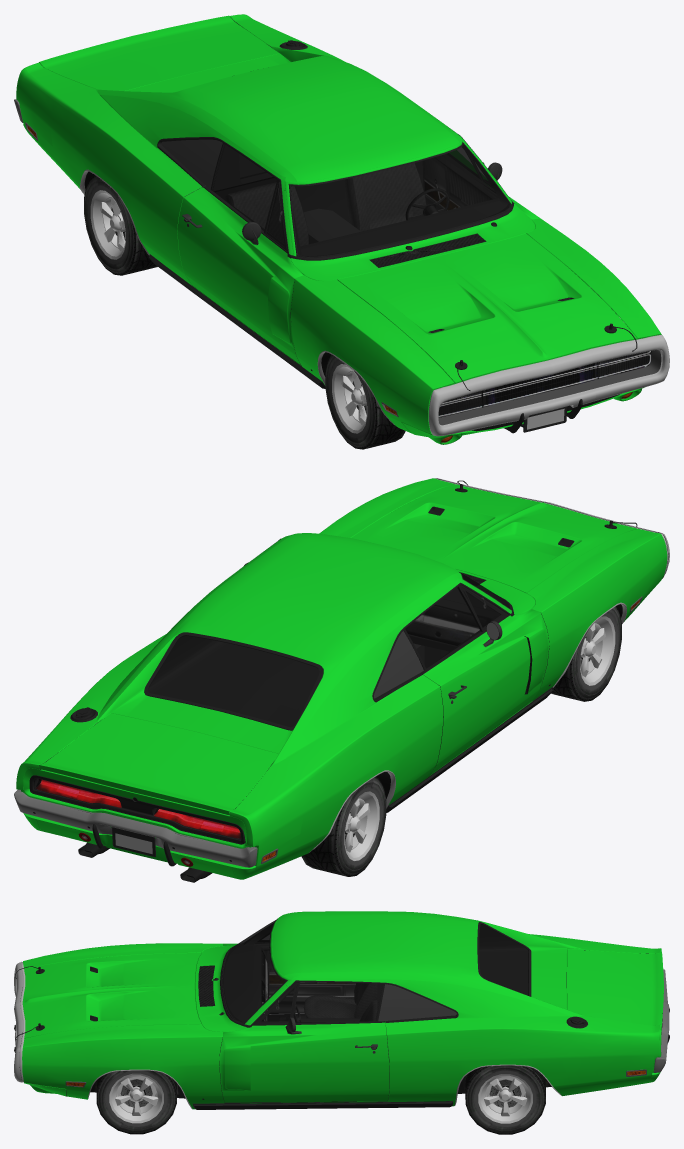
The model's file is Car_1.FBX.
3 renders of one model, top to bottom at view 1: azimuth 30°, elevation 25°; view 2: azimuth 150°, elevation 25°; view 3: azimuth 270°, elevation 25°, orthographic. The views are drawn at different scales.
Parts seen in each view (by area): view 1: Body, Door_R, Door_B, Wheel_BR, Wheel_FR, Door_L; view 2: Body, Door_R, Door_B, Wheel_BR, Wheel_FR; view 3: Body, Door_L, Door_B, Wheel_BL, Wheel_FL, Door_R.
Part boxes in pixels (x1,y1,x2,y2): Body: (14,14,669,444); Door_R: (177,143,303,364); Door_B: (39,15,279,90); Wheel_BR: (84,175,157,275); Wheel_FR: (325,354,405,449); Door_L: (422,147,540,219); Body: (14,478,669,882); Door_R: (403,585,549,774); Door_B: (39,713,278,816); Wheel_BR: (301,777,386,876); Wheel_FR: (551,606,621,701); Body: (14,911,669,1109); Door_L: (219,982,389,1102); Door_B: (567,949,663,1025); Wheel_BL: (465,1065,545,1134); Wheel_FL: (96,1070,176,1134); Door_R: (223,932,355,1013).
Bounding box in the file's own units: 51.97 × 35.56 × 140.
